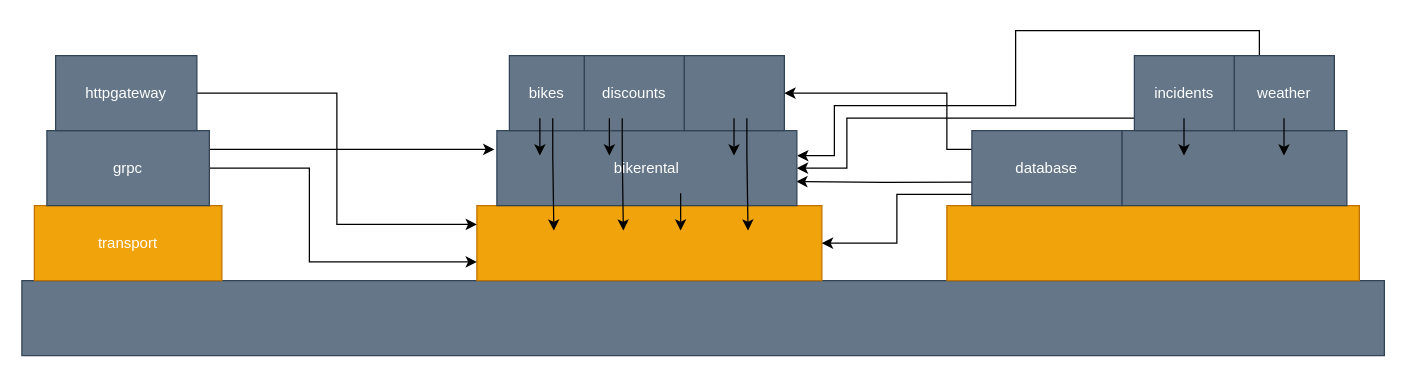
Some shapes in this 1406 by 378 pixel diagram are drawn without their labels. Here are the shapes that lost their labels. From the top down, the centre of each, then its label:
At pixel 733 92: "reservation".
At pixel 1234 167: "http".
At pixel 649 242: "app".
At pixel 1152 242: "adapter".
At pixel 702 317: "internal".
